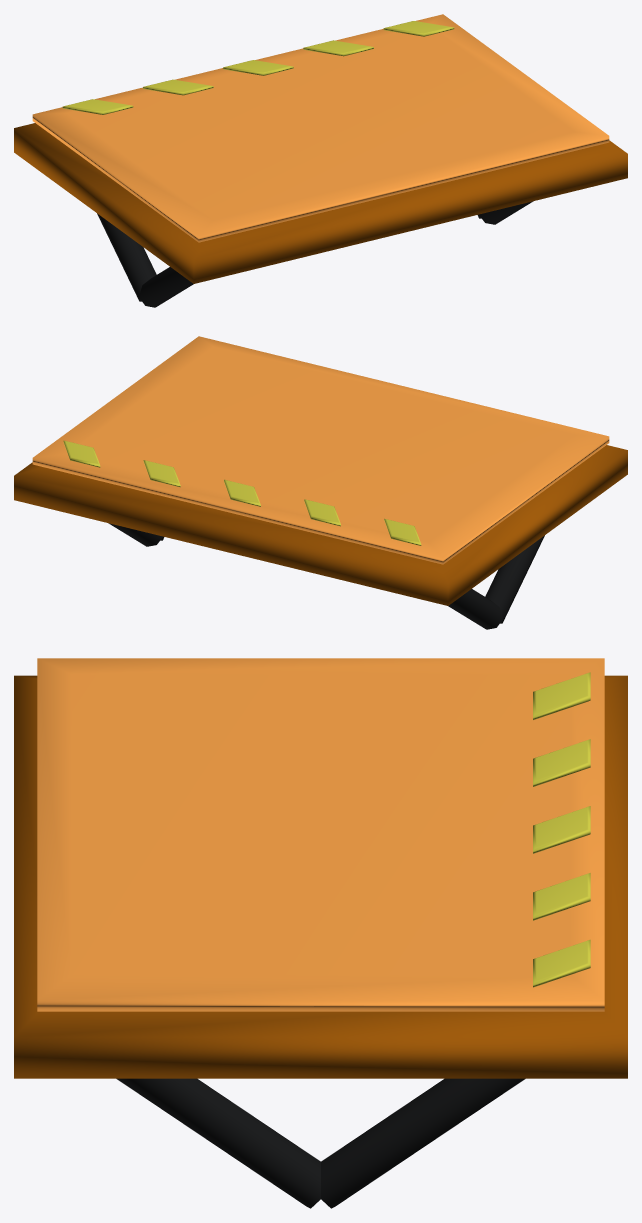
The model's file is Lift.glb.
3 renders of one model, top to bottom at view 1: azimuth 30°, elevation 25°; view 2: azimuth 150°, elevation 25°; view 3: azimuth 270°, elevation 25°, orthographic. The views are drawn at different scales.
Parts seen in each view (by area): view 1: Deck, Body, Brackets, EdgeMarks; view 2: Deck, Body, Brackets, EdgeMarks; view 3: Deck, Body, Brackets, EdgeMarks.
Part boxes in pixels (<box>): Deck: <box>32,14,609,242</box>; Body: <box>14,123,627,283</box>; Brackets: <box>97,201,533,307</box>; EdgeMarks: <box>62,21,454,114</box>; Deck: <box>32,336,609,564</box>; Body: <box>14,445,627,605</box>; Brackets: <box>108,523,544,629</box>; EdgeMarks: <box>63,440,421,545</box>; Deck: <box>37,658,604,1011</box>; Body: <box>14,675,627,1078</box>; Brackets: <box>116,1078,525,1208</box>; EdgeMarks: <box>533,672,590,987</box>.
Size of the model in its own units: 1.29 by 0.4065 by 0.924.
1 material, 1 textured.
